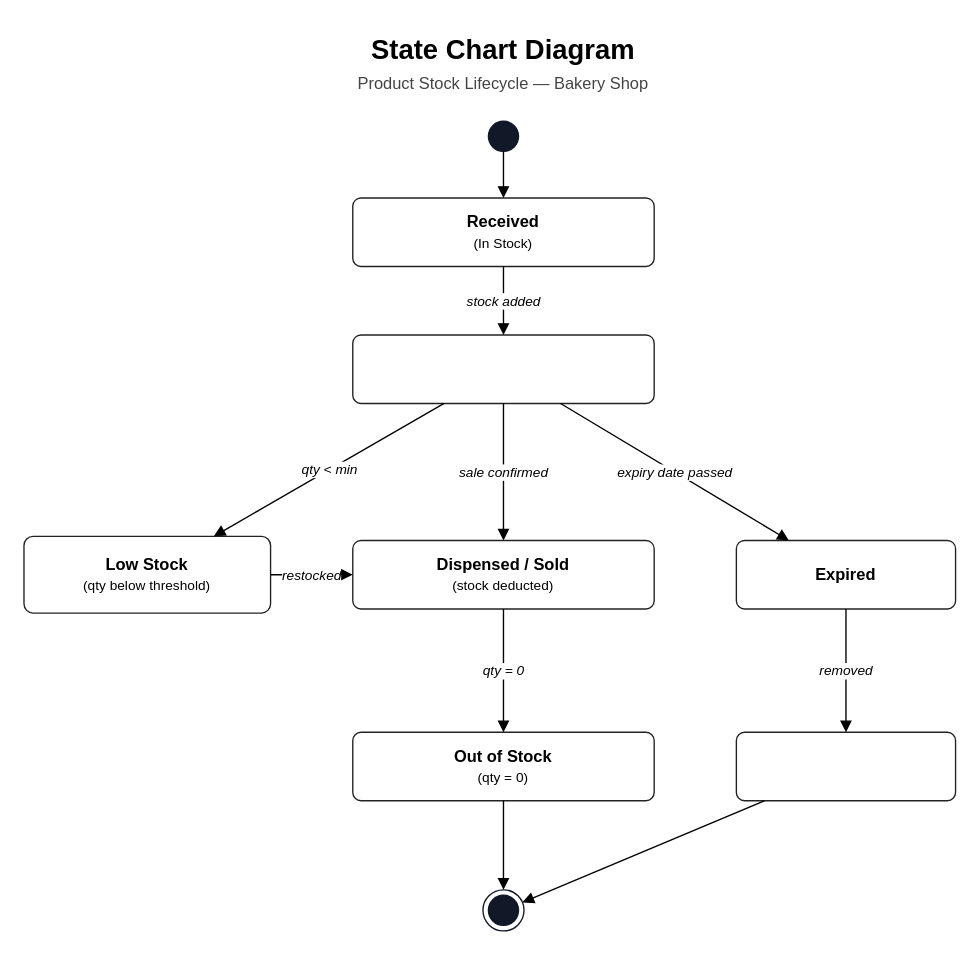
Image size: 980x955. Some labels were removed from this diagram. The box of each missing label's shape, as (x1, y1, x2, y2) in pixels:
Available (Active, Non-expired): (351, 334, 654, 403)
Disposed / Wasted: (735, 731, 956, 801)
